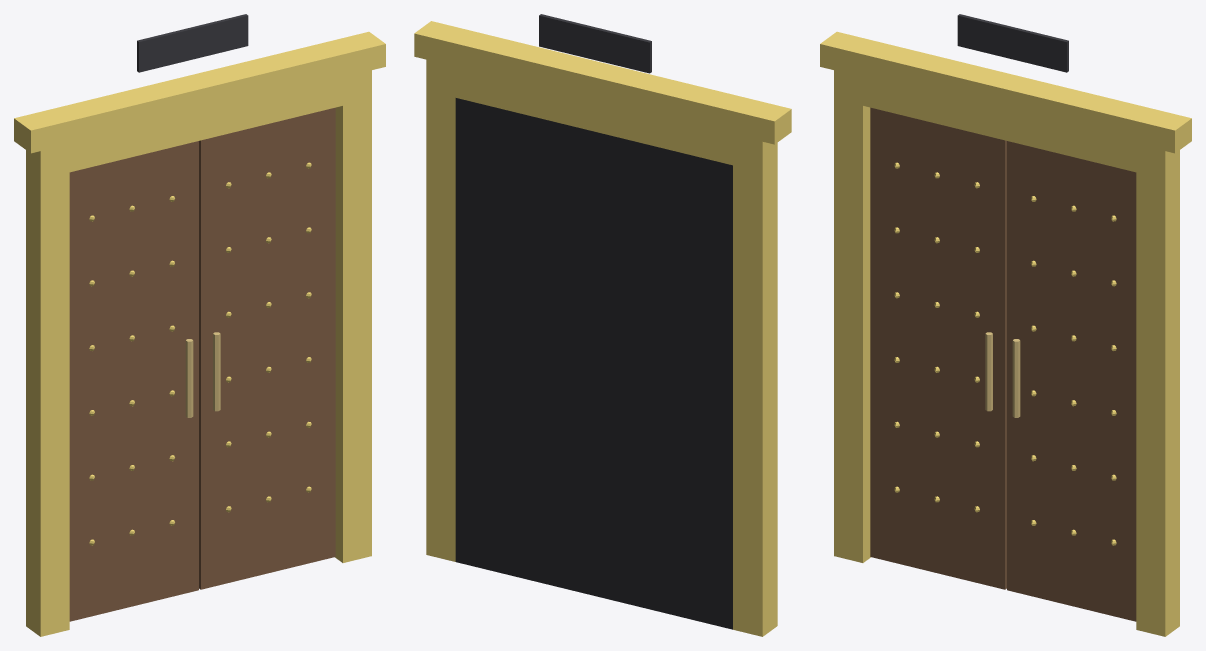
File: HJ_PuertaAtico.fbx
3 renders of one model, left to right at view 1: azimuth 30°, elevation 25°; view 2: azimuth 150°, elevation 25°; view 3: azimuth 330°, elevation 25°, orthographic.
Visible parts, largest first — view 1: HJ_PuertaAtico; view 2: HJ_PuertaAtico; view 3: HJ_PuertaAtico.
Part boxes in pixels (x1,y1,x2,y2): HJ_PuertaAtico: [14, 14, 385, 636]; HJ_PuertaAtico: [414, 14, 791, 636]; HJ_PuertaAtico: [820, 14, 1191, 636].
Bounding box in the file's own units: 1.95 × 2.93 × 0.16.
